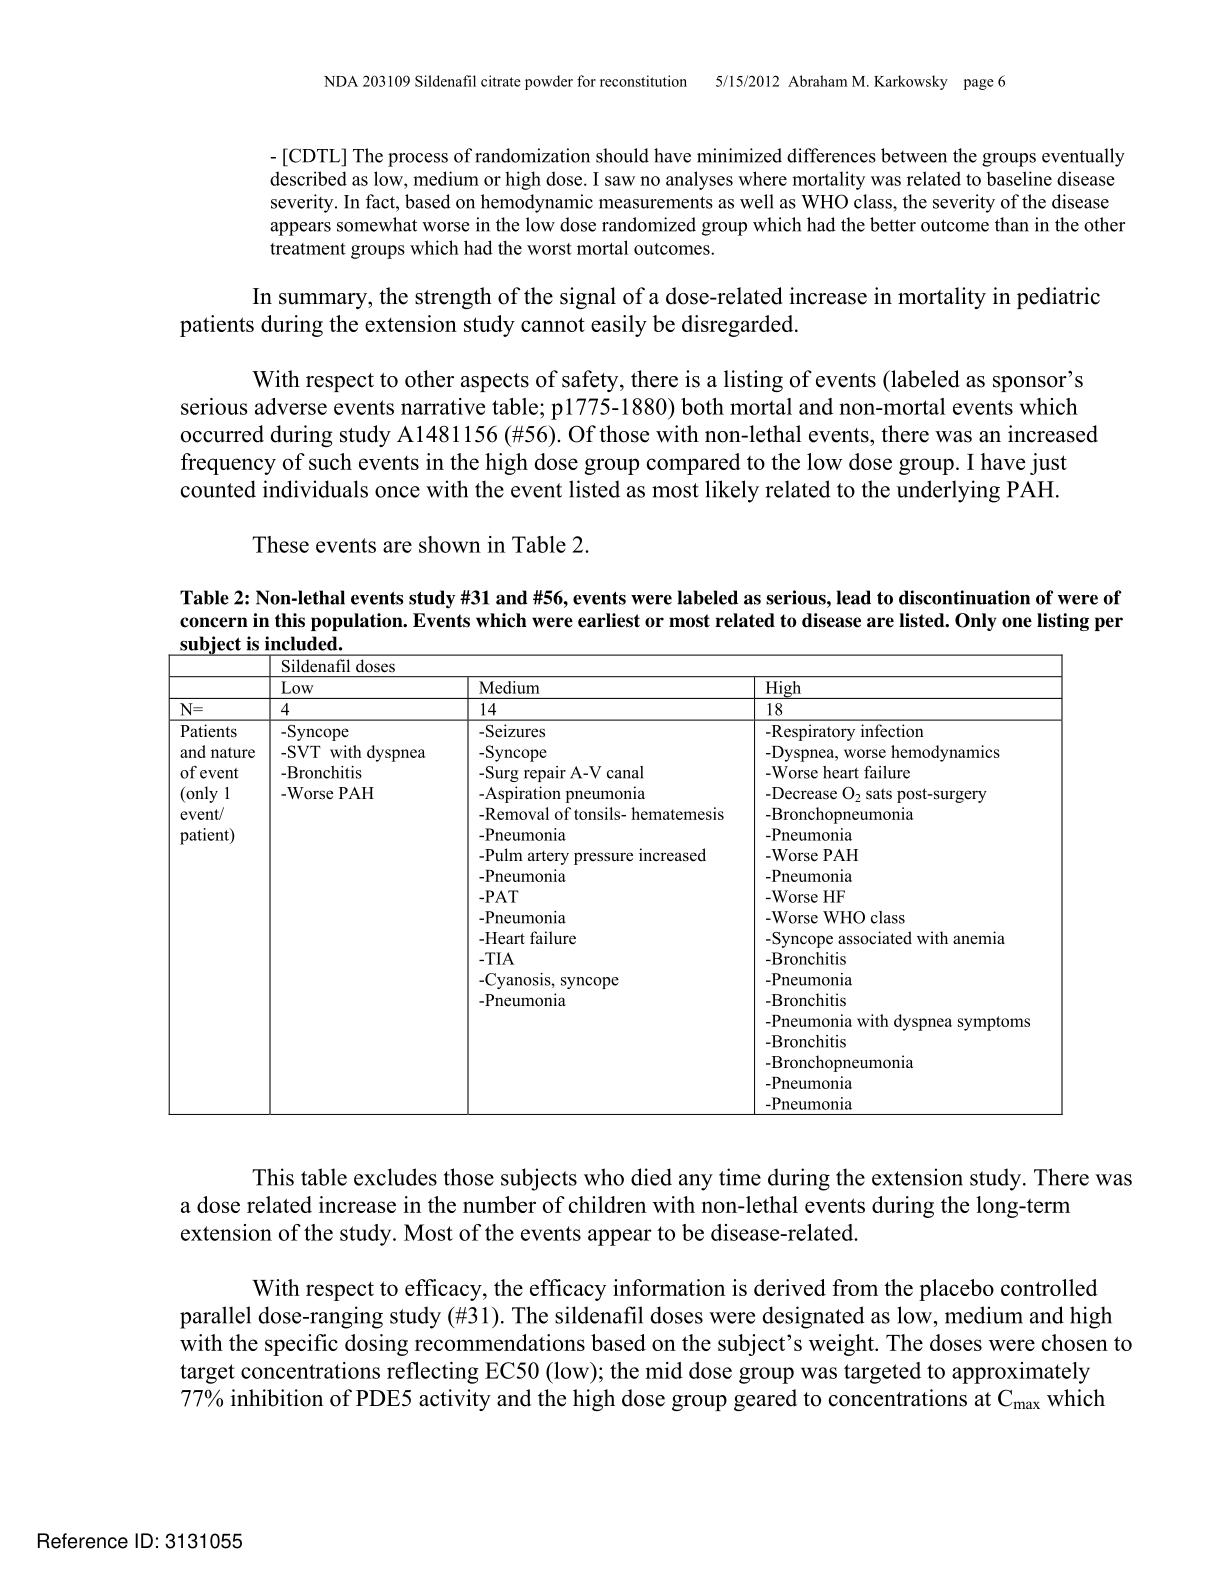merged_cells: (167, 652, 1063, 1117)
